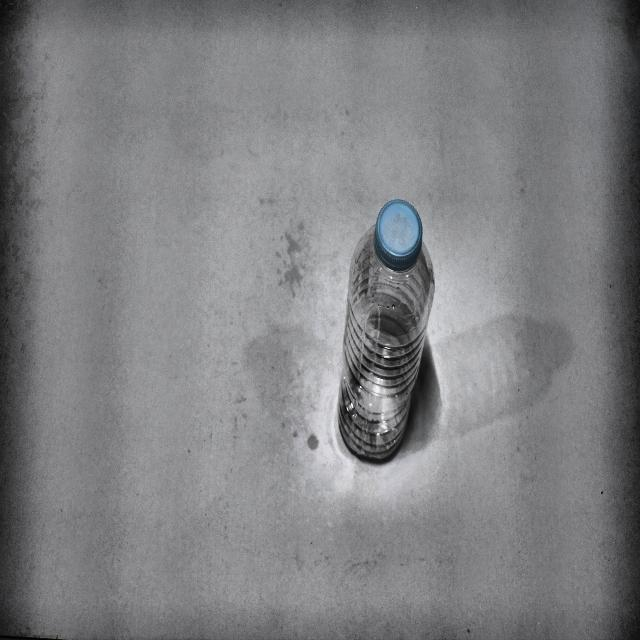Bottles: (333, 192, 442, 468)
